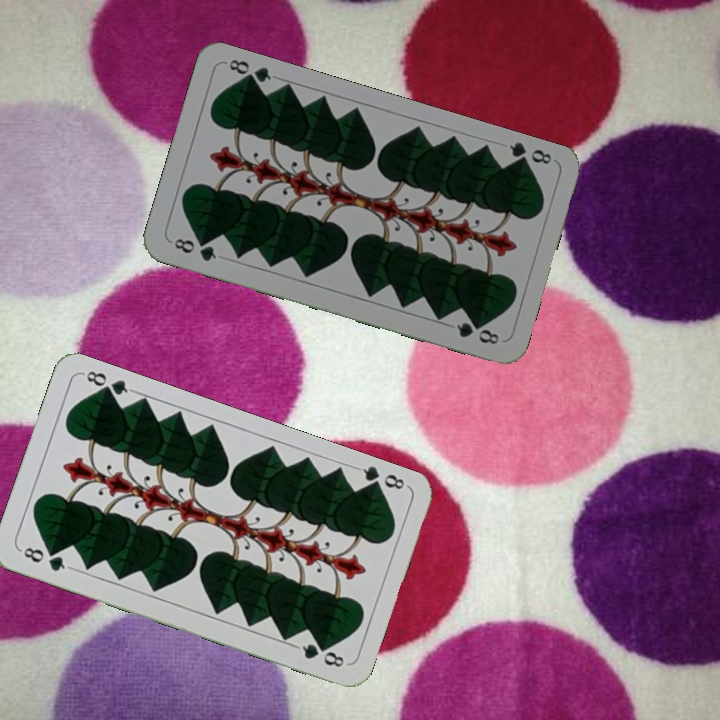G8: (352, 462, 410, 496), (16, 543, 74, 574), (505, 138, 554, 171), (169, 234, 219, 264)
